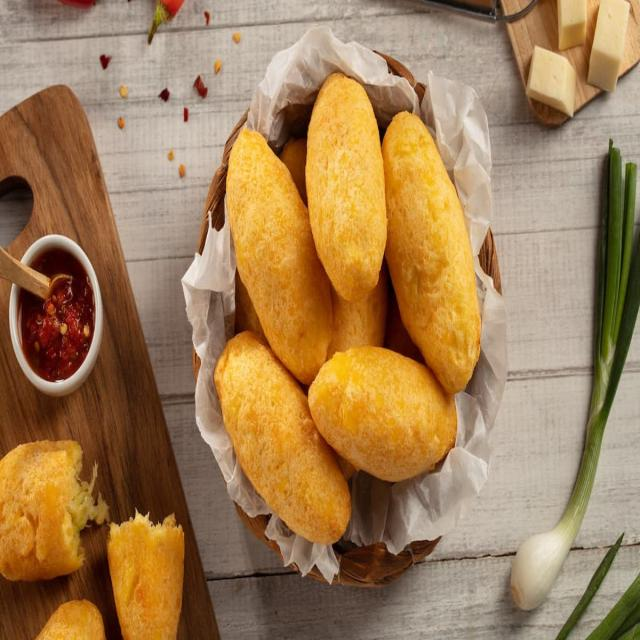yuca: (299, 81, 400, 309)
